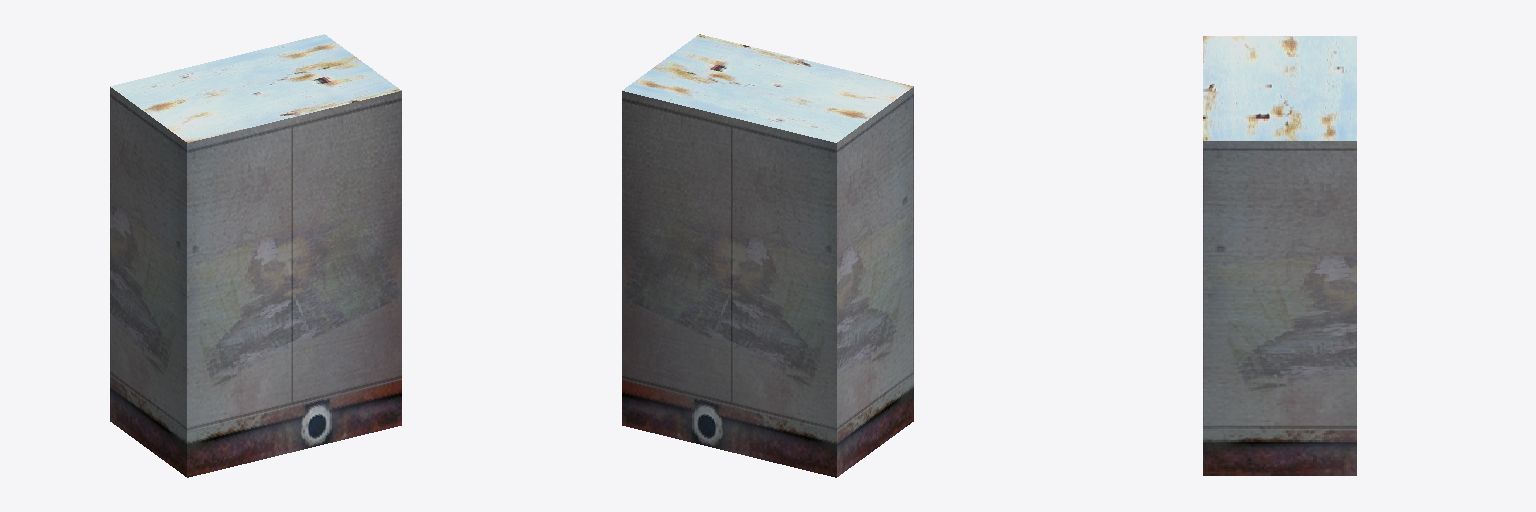
3 views of the same model, side by side, from view 1: azimuth 30°, elevation 25°; view 2: azimuth 150°, elevation 25°; view 3: azimuth 270°, elevation 25° (orthographic).
Visible parts, largest first — view 1: electricBox_2_v1; view 2: electricBox_2_v1; view 3: electricBox_2_v1.
Part boxes in pixels (x1,y1,x2,y2): electricBox_2_v1: (110,34,401,477); electricBox_2_v1: (622,34,913,477); electricBox_2_v1: (1203,36,1356,475).
Bounding box in the file's own units: 0.8 × 1.19 × 0.5.
Materials: 1 (1 with a texture image).